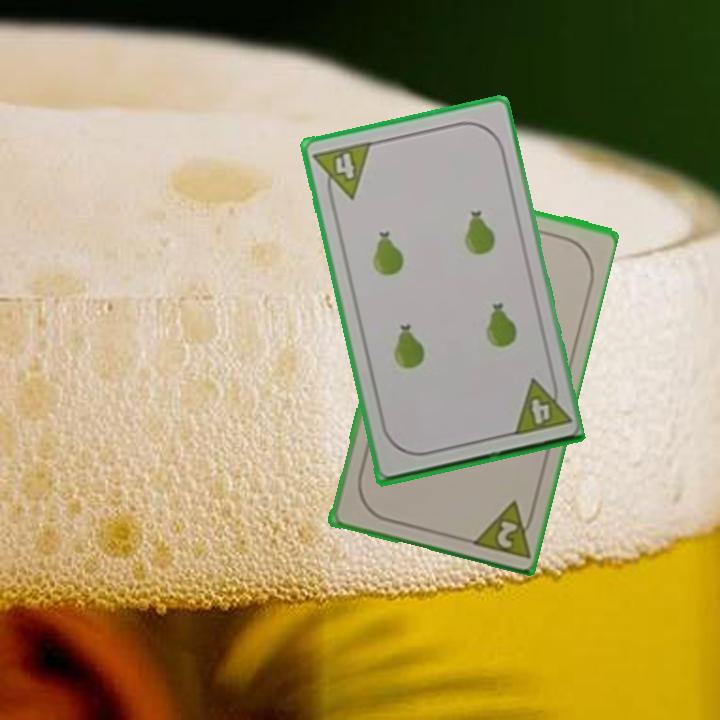2p: (466, 496, 539, 560)
4p: (310, 138, 374, 206), (508, 372, 572, 439)
